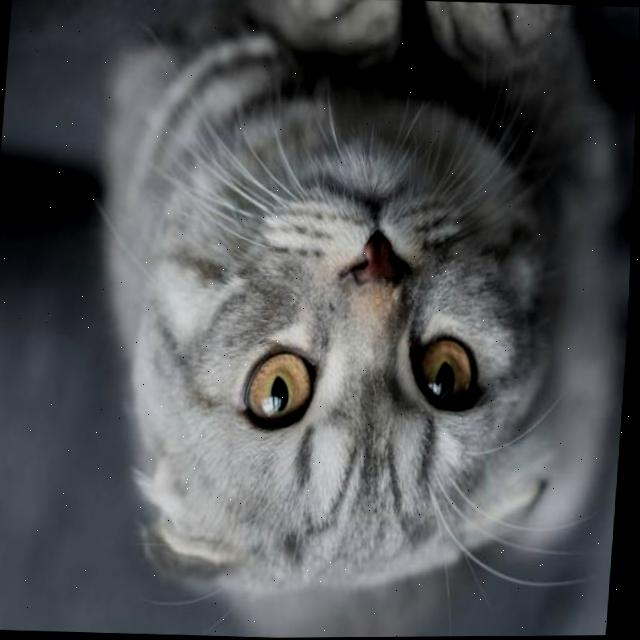Scottish Fold: (77, 0, 640, 639)
